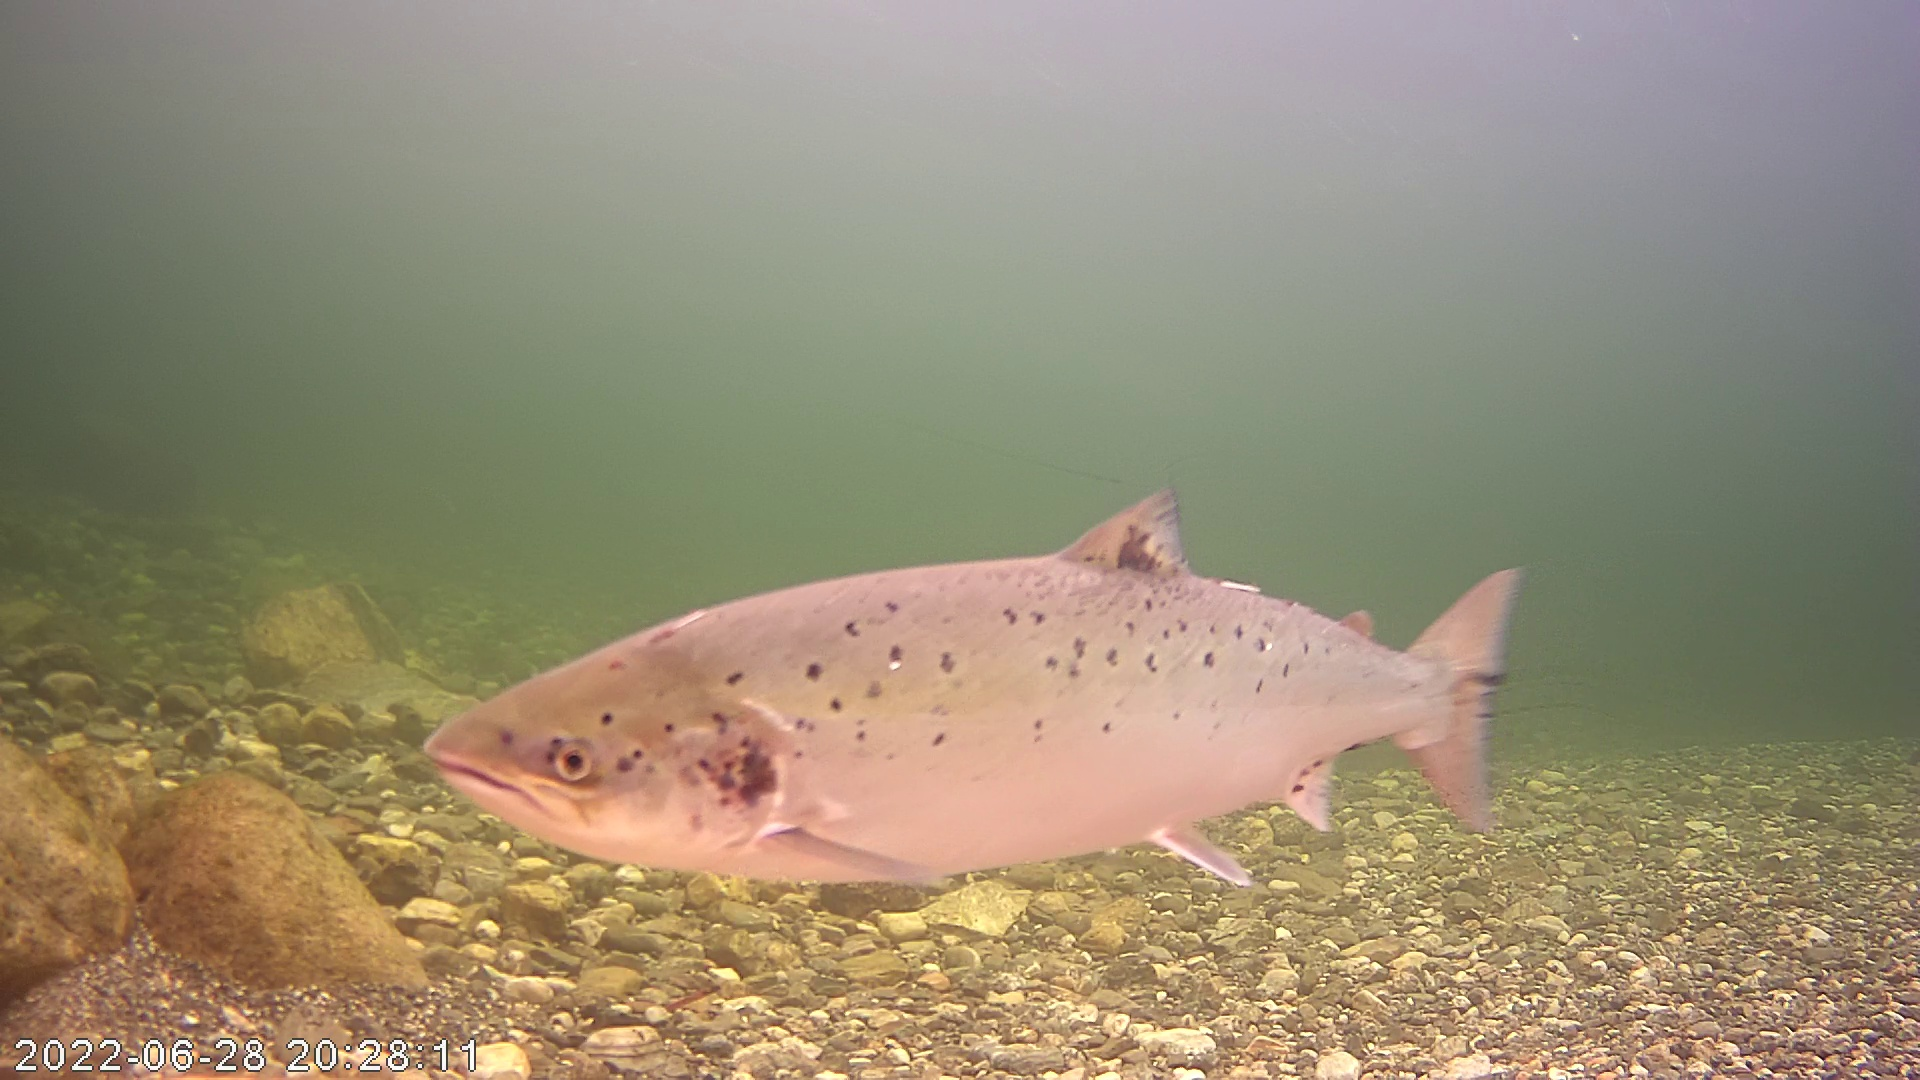salmon: (433, 435, 1528, 901)
